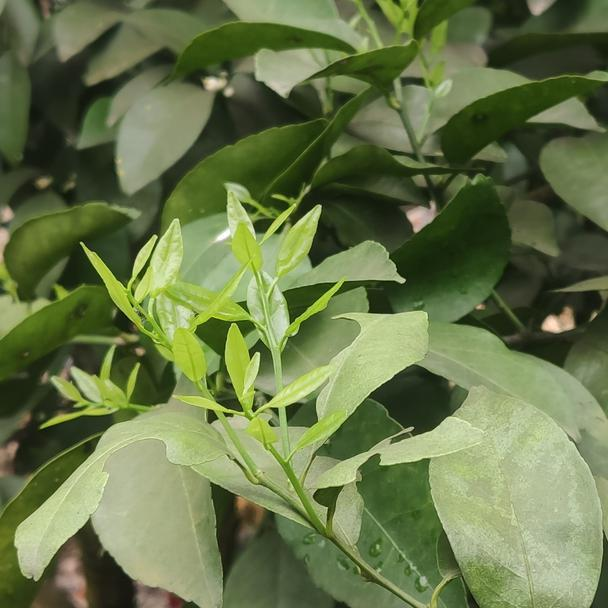shoot: (195, 207, 350, 387), (71, 233, 232, 394), (192, 327, 345, 491)
